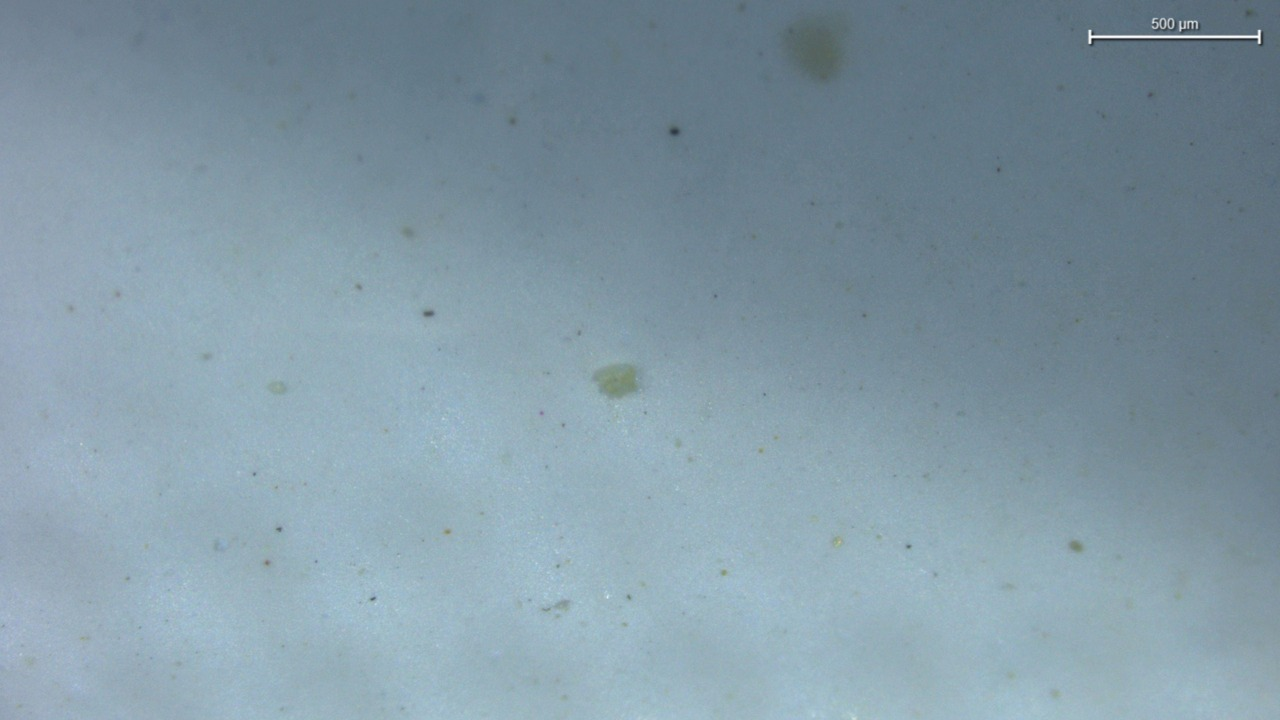microplastic_fragment: (592, 363, 639, 399)
